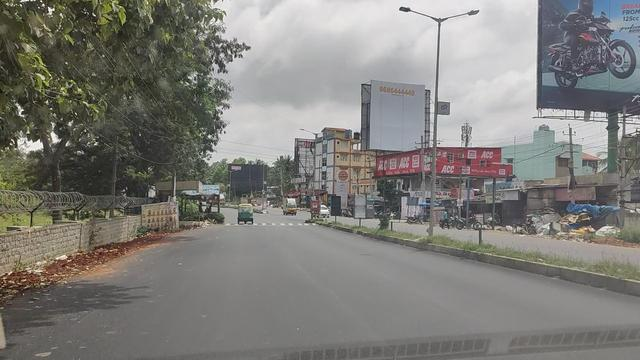LMV: (239, 204, 253, 220)
SpeedBump: (226, 221, 310, 228)
